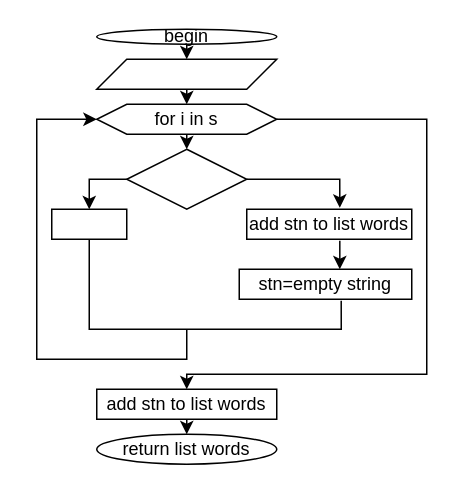
This 465x491 diagram has some shape labels left out. The box of each missing label's shape, as (x1, y1, x2, y2) in pixels:
if i== space: (125, 148, 247, 209)
input s ,stn: (95, 58, 277, 89)
stn+=i: (50, 208, 127, 239)
